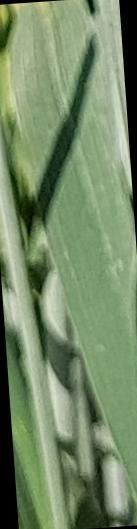Potato: (15, 18, 128, 261), (71, 244, 136, 479)
